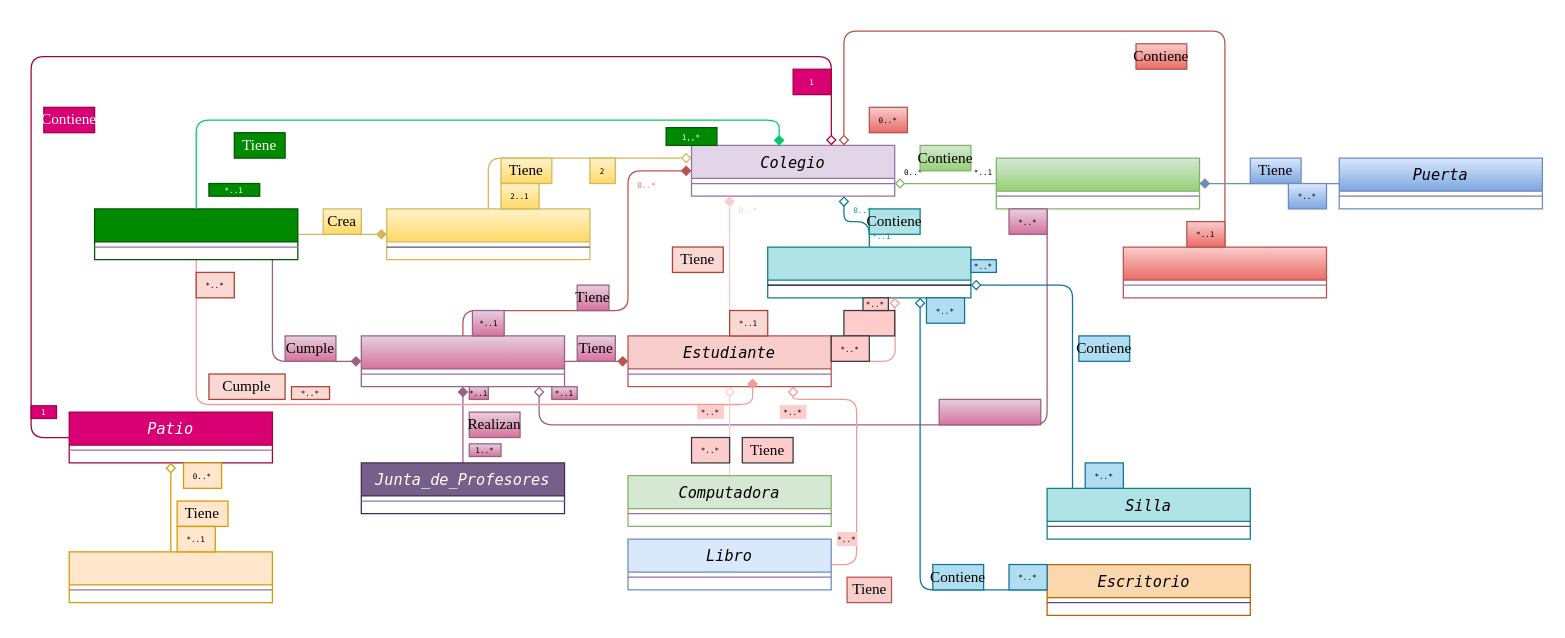
Some shapes in this 1565 by 638 pixel diagram are drawn without their labels. The centre of each missing label's shape, as x and y in pixels:
Asiste: the point at 869,322
Aula: the point at 868,272
Cafetería: the point at 1224,272
Columpio: the point at 170,577
Director: the point at 487,234
Profesor: the point at 462,361
Regla: the point at 195,234
Sala_de_descanso: the point at 1097,183
Toma_un_break: the point at 989,411
